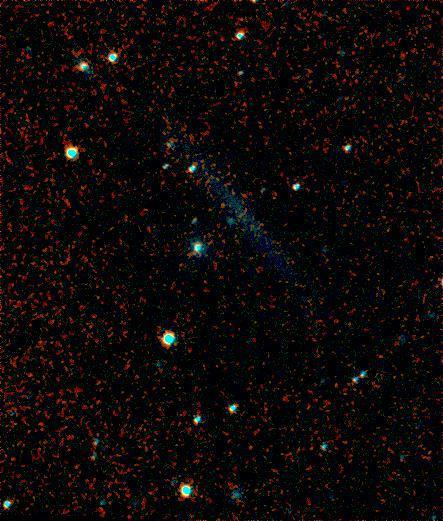star: (324, 369, 354, 399)
